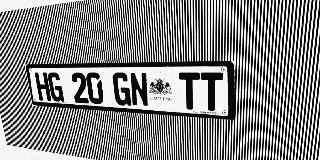0: (85, 72, 104, 104)
2: (71, 72, 89, 103)
G: (112, 72, 131, 106), (47, 72, 64, 102)
H: (34, 72, 51, 101)
N: (129, 72, 149, 107)
T: (201, 72, 223, 111), (179, 72, 200, 110)
